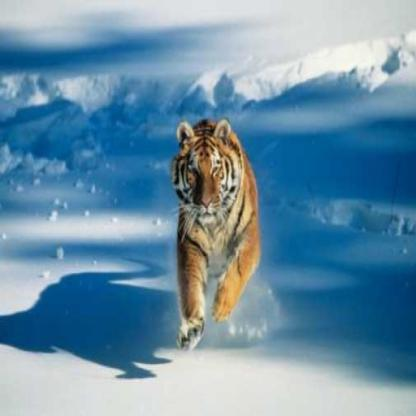Tiger: (168, 113, 262, 356)
